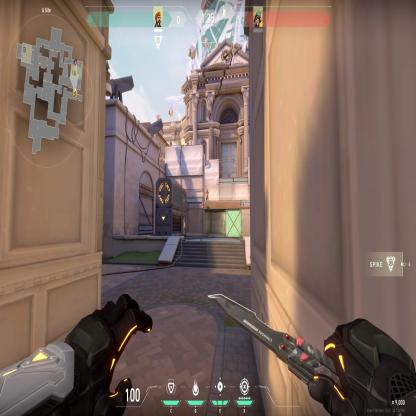enemy: (205, 188, 209, 202)
